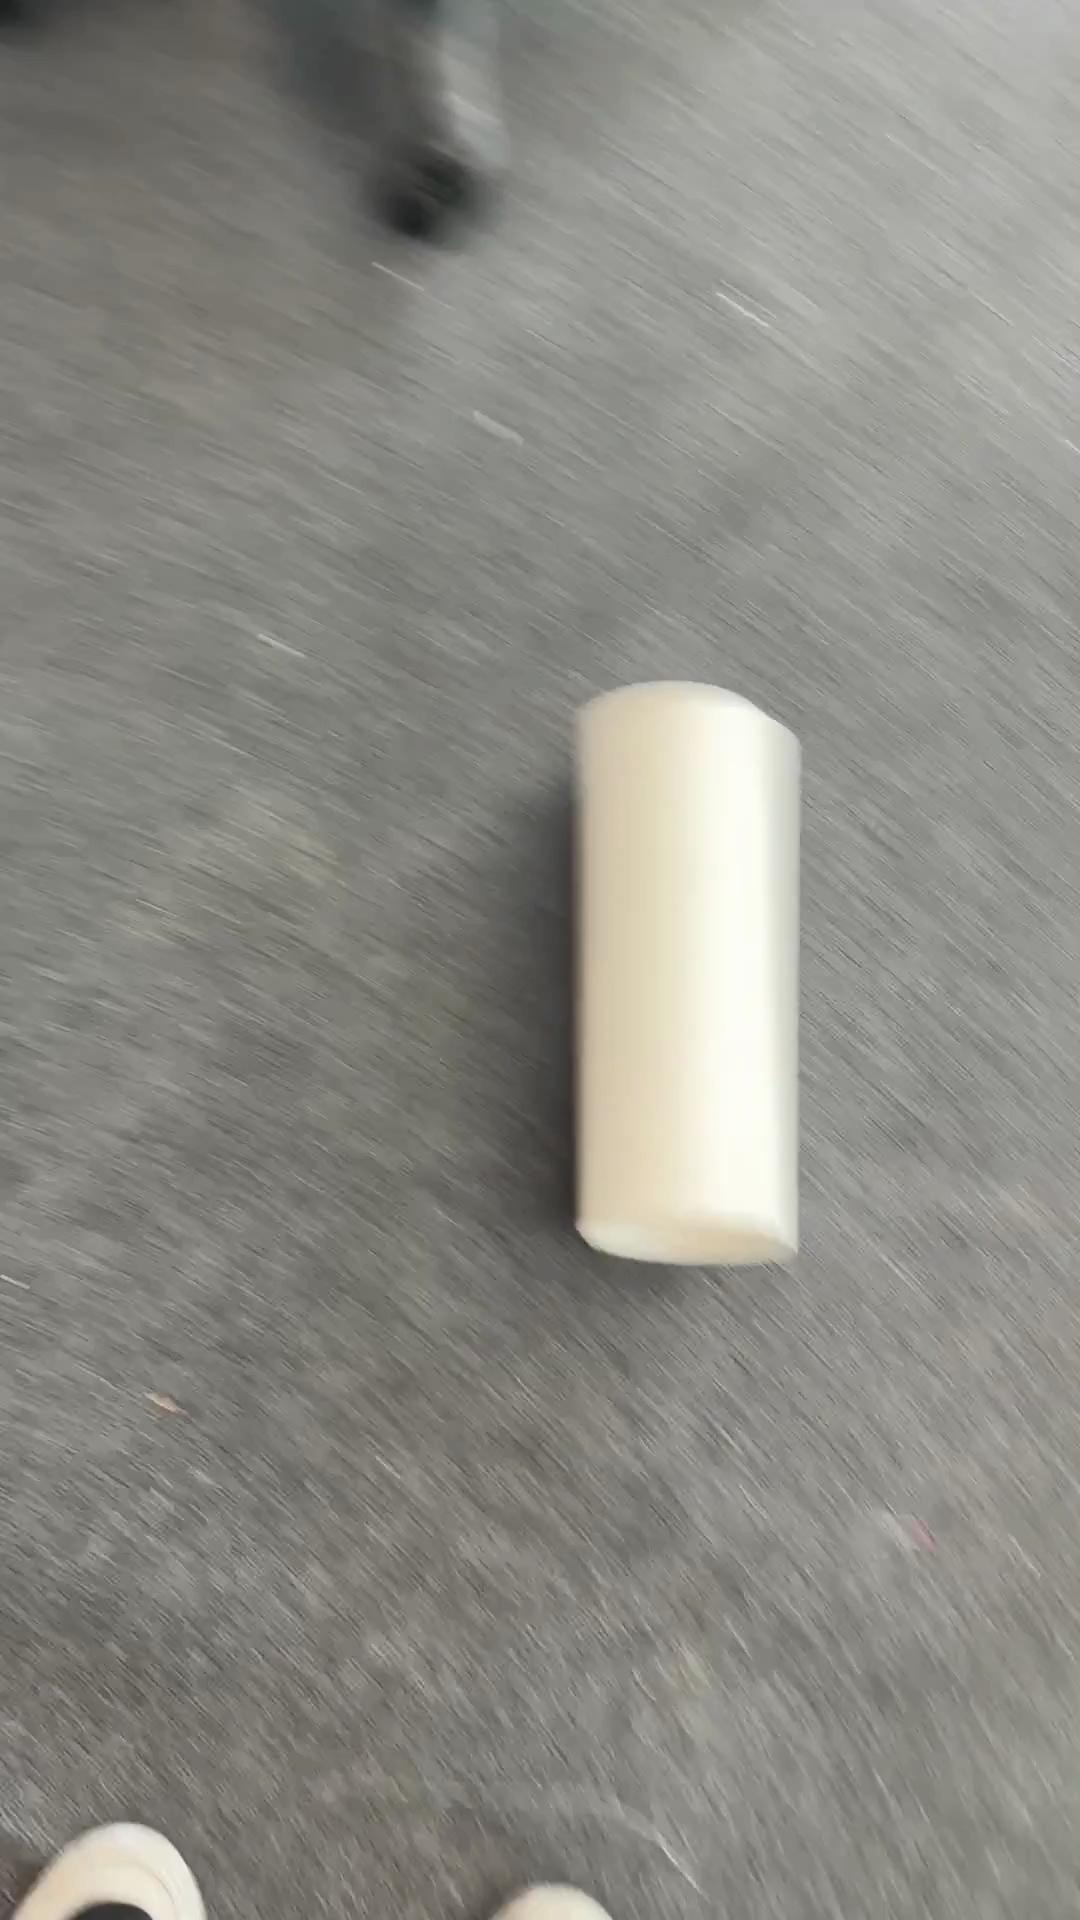CORAL: (568, 676, 803, 1267)
